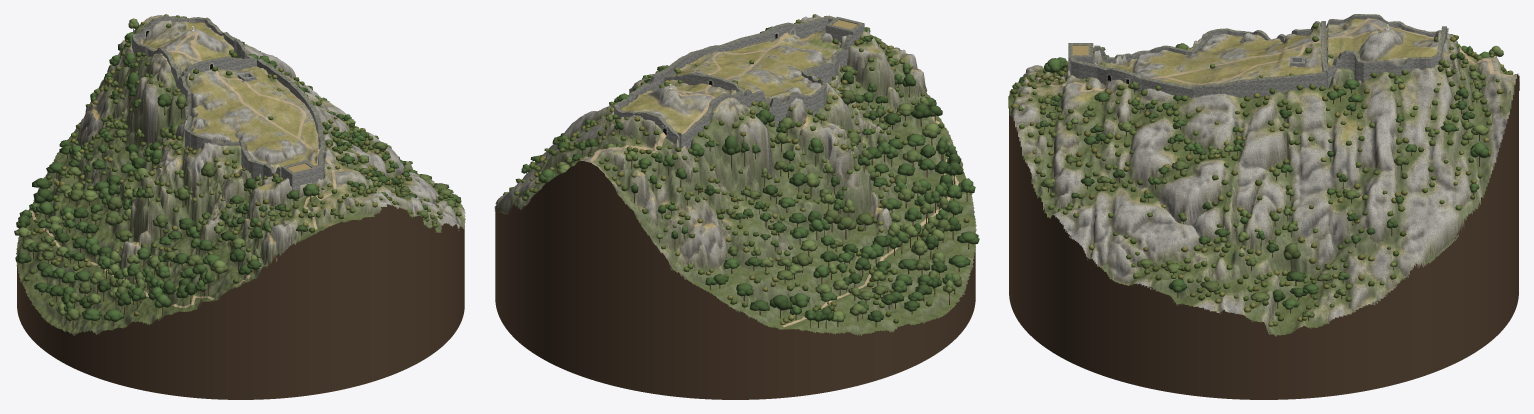
Rendered from castro-laboreiro.glb.
The picture shows the model from 3 angles, left to right: view 1: azimuth 30°, elevation 25°; view 2: azimuth 150°, elevation 25°; view 3: azimuth 270°, elevation 25°; orthographic projection. The views are drawn at different scales.
Visible parts, largest first — view 1: Base, Terreno, Vegetacao, Afloramentos, Caminhos, Cerca_Poente, Cerca_Nascente, Reduto, Muro_Recintos, Castelo_Nascente, Castelo_Poente; view 2: Base, Terreno, Vegetacao, Afloramentos, Cerca_Poente, Cerca_Nascente, Caminhos, Castelo_Poente, Castelo_Nascente, Muro_Recintos, Reduto; view 3: Base, Afloramentos, Terreno, Vegetacao, Cerca_Nascente, Castelo_Nascente, Caminhos, Cerca_Poente, Castelo_Poente, Reduto.
Boxes of the visible parts, x1,y1,x2,y2 form: Base: (17, 15, 464, 399); Terreno: (16, 15, 465, 335); Vegetacao: (14, 14, 461, 328); Afloramentos: (77, 15, 465, 266); Caminhos: (30, 16, 344, 307); Cerca_Poente: (178, 76, 281, 181); Cerca_Nascente: (257, 58, 325, 180); Reduto: (281, 160, 317, 190); Muro_Recintos: (181, 56, 256, 78); Castelo_Nascente: (168, 16, 256, 59); Castelo_Poente: (132, 34, 180, 88); Base: (495, 45, 975, 399); Terreno: (494, 15, 976, 335); Vegetacao: (503, 14, 979, 328); Afloramentos: (494, 15, 925, 270); Cerca_Poente: (744, 34, 852, 126); Cerca_Nascente: (661, 16, 835, 75); Caminhos: (590, 32, 958, 327); Castelo_Poente: (677, 91, 746, 148); Castelo_Nascente: (614, 72, 664, 118); Muro_Recintos: (664, 73, 742, 91); Reduto: (825, 16, 864, 43); Base: (1009, 74, 1518, 399); Afloramentos: (1011, 19, 1519, 324); Terreno: (1008, 18, 1519, 336); Vegetacao: (1010, 23, 1513, 326); Cerca_Nascente: (1070, 57, 1326, 98); Castelo_Nascente: (1326, 34, 1445, 88); Caminhos: (1048, 18, 1513, 91); Cerca_Poente: (1094, 21, 1320, 63); Castelo_Poente: (1326, 14, 1441, 36); Reduto: (1068, 43, 1093, 74).
Size of the model in its own units: 184 by 107 by 184.
11 materials, 5 textured.
